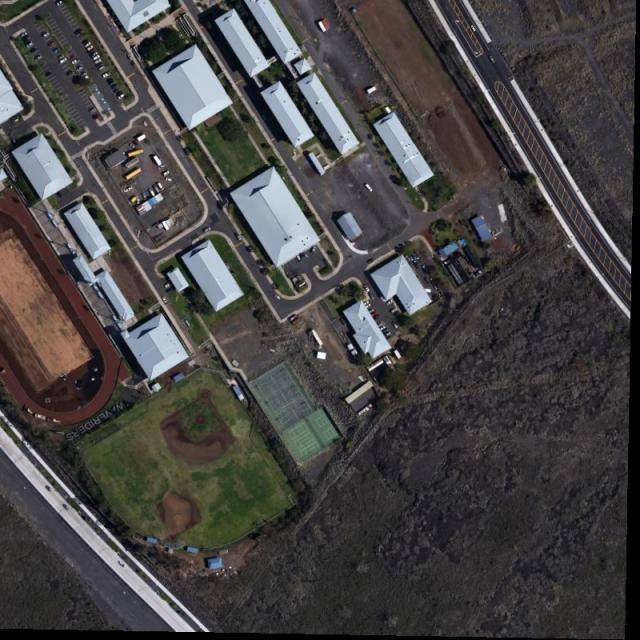vehicle: (102, 70, 111, 78), (60, 57, 69, 65), (35, 414, 47, 420), (118, 560, 126, 568), (62, 502, 70, 510), (164, 282, 173, 289), (235, 232, 242, 241), (42, 31, 51, 38), (203, 226, 212, 233), (75, 30, 83, 37), (86, 44, 94, 51), (84, 41, 91, 49), (35, 54, 42, 62), (489, 54, 495, 63), (154, 184, 160, 193), (45, 484, 52, 491), (274, 294, 281, 301), (67, 70, 74, 77), (46, 71, 53, 78), (162, 170, 169, 177), (366, 185, 373, 192), (21, 31, 28, 38), (27, 42, 34, 49), (162, 297, 169, 304), (130, 61, 137, 68), (296, 254, 302, 262), (118, 93, 126, 99), (98, 64, 106, 70), (158, 182, 164, 190), (125, 186, 133, 192), (110, 83, 118, 89), (364, 286, 370, 293), (54, 48, 61, 54), (386, 300, 393, 306), (90, 107, 97, 113), (149, 189, 156, 195), (80, 71, 87, 77), (114, 88, 121, 94), (94, 58, 102, 63), (373, 314, 381, 319), (127, 53, 132, 61), (129, 143, 135, 149), (93, 54, 99, 60), (391, 307, 397, 313), (369, 292, 374, 299), (94, 114, 101, 119), (363, 301, 370, 306), (73, 58, 78, 65), (393, 322, 398, 329), (142, 193, 147, 200), (55, 1, 63, 5), (50, 42, 56, 47), (166, 177, 172, 182), (132, 140, 138, 145), (385, 332, 390, 338), (381, 326, 386, 332), (58, 55, 65, 59), (136, 199, 140, 206), (471, 25, 476, 30), (366, 304, 371, 309), (78, 65, 83, 70), (369, 310, 375, 314)
